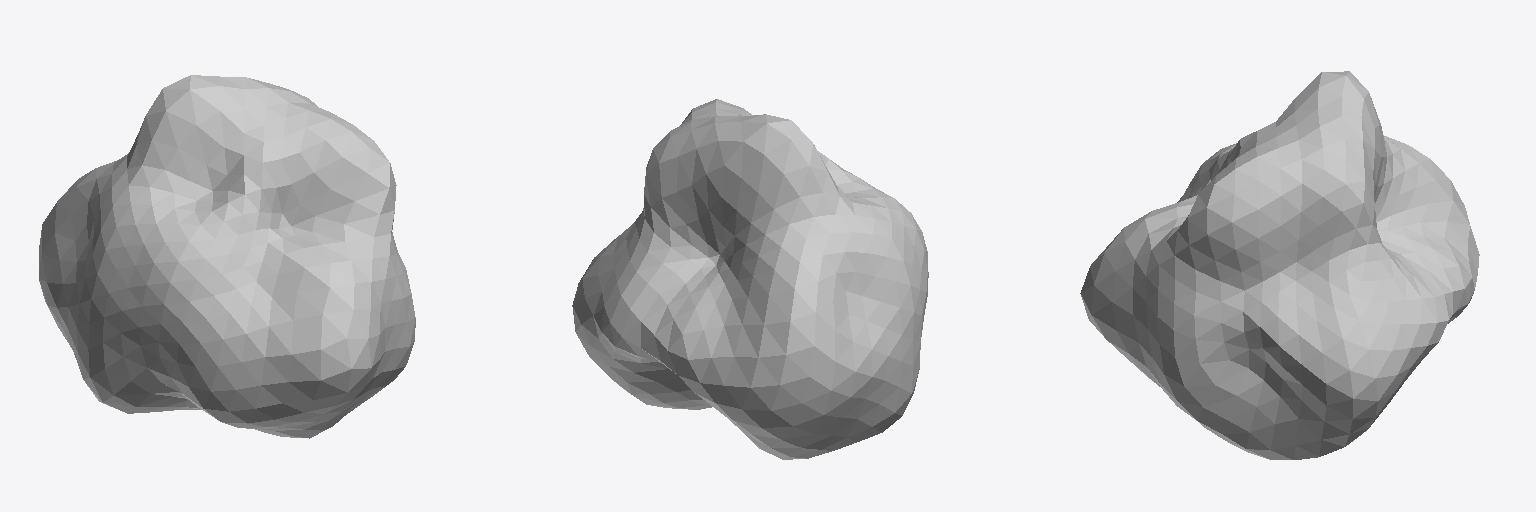
The model's file is asteroid.obj.
3 views of the same model, side by side, from view 1: azimuth 30°, elevation 25°; view 2: azimuth 150°, elevation 25°; view 3: azimuth 270°, elevation 25° (orthographic).
Size of the model in its own units: 2.06 by 2.08 by 2.28.